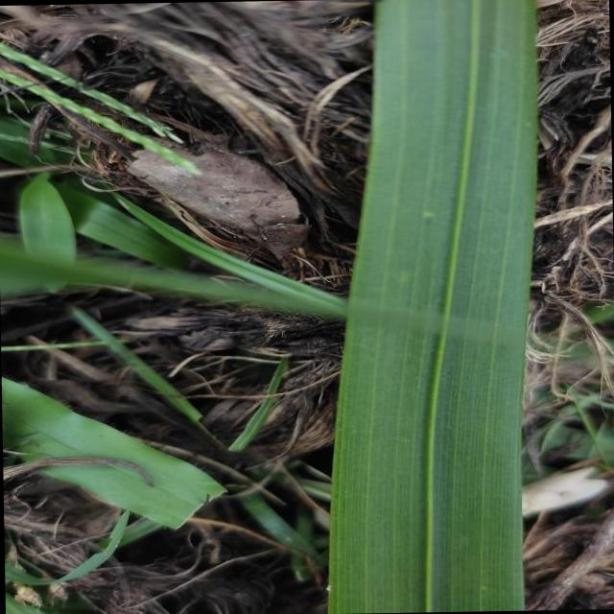Healthy: (329, 0, 539, 614)
